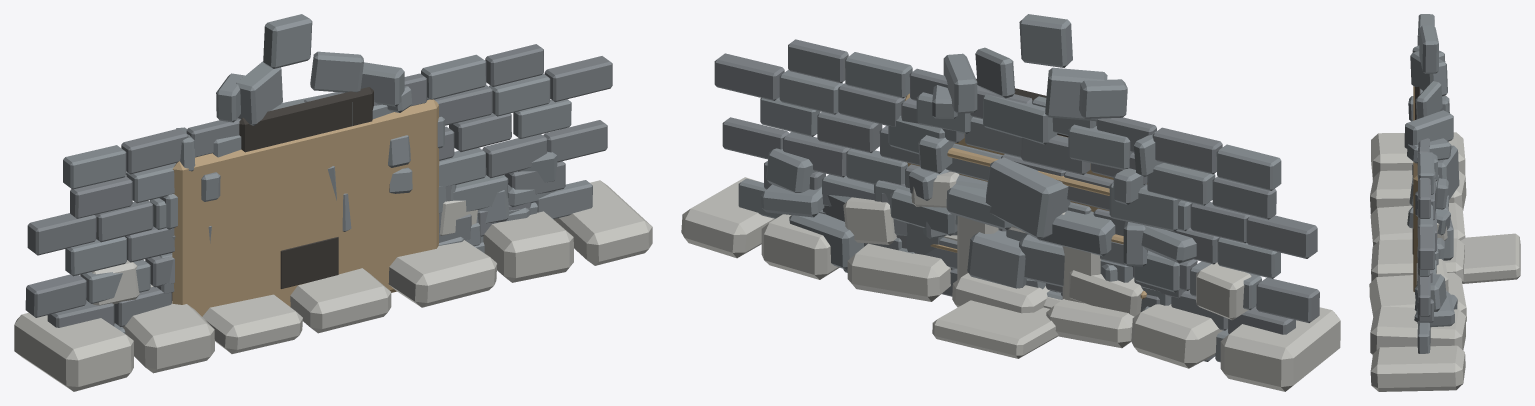
Rendered from Model_CityWallDetailPack.glb.
The picture shows the model from 3 angles, left to right: view 1: azimuth 30°, elevation 25°; view 2: azimuth 150°, elevation 25°; view 3: azimuth 270°, elevation 25°; orthographic projection. The views are drawn at different scales.
Visible parts, largest first — view 1: CityWallRepairPatchLarge, CityWallCoreExposurePatch, CityWallCopingBrokenRun, CityWallShellScar, CityWallRootSpall, CityWallDrainSpout; view 2: CityWallRepairPatchLarge, CityWallRootSpall, CityWallCopingBrokenRun, CityWallShellScar, CityWallCoreExposurePatch, CityWallDrainSpout, CityWallRepairPatchSmall; view 3: CityWallCopingBrokenRun, CityWallShellScar, CityWallRepairPatchLarge, CityWallRootSpall, CityWallDrainSpout, CityWallCoreExposurePatch.
Boxes of the visible parts, x1,y1,x2,y2 form: CityWallRepairPatchLarge: [25, 44, 612, 333]; CityWallCoreExposurePatch: [159, 93, 463, 316]; CityWallCopingBrokenRun: [14, 180, 652, 391]; CityWallShellScar: [176, 14, 412, 243]; CityWallRootSpall: [92, 151, 557, 305]; CityWallDrainSpout: [280, 237, 338, 288]; CityWallRepairPatchLarge: [714, 39, 1319, 362]; CityWallRootSpall: [761, 148, 1251, 320]; CityWallCopingBrokenRun: [681, 177, 1340, 391]; CityWallShellScar: [909, 14, 1163, 289]; CityWallCoreExposurePatch: [874, 92, 1180, 310]; CityWallDrainSpout: [932, 212, 1100, 358]; CityWallRepairPatchSmall: [864, 180, 1185, 311]; CityWallCopingBrokenRun: [1369, 132, 1466, 391]; CityWallShellScar: [1404, 25, 1453, 235]; CityWallRepairPatchLarge: [1417, 14, 1437, 353]; CityWallRootSpall: [1412, 141, 1459, 327]; CityWallDrainSpout: [1412, 229, 1520, 283]; CityWallCoreExposurePatch: [1413, 86, 1438, 291].
Bounding box in the file's own units: 5.03 × 2.35 × 1.38.
